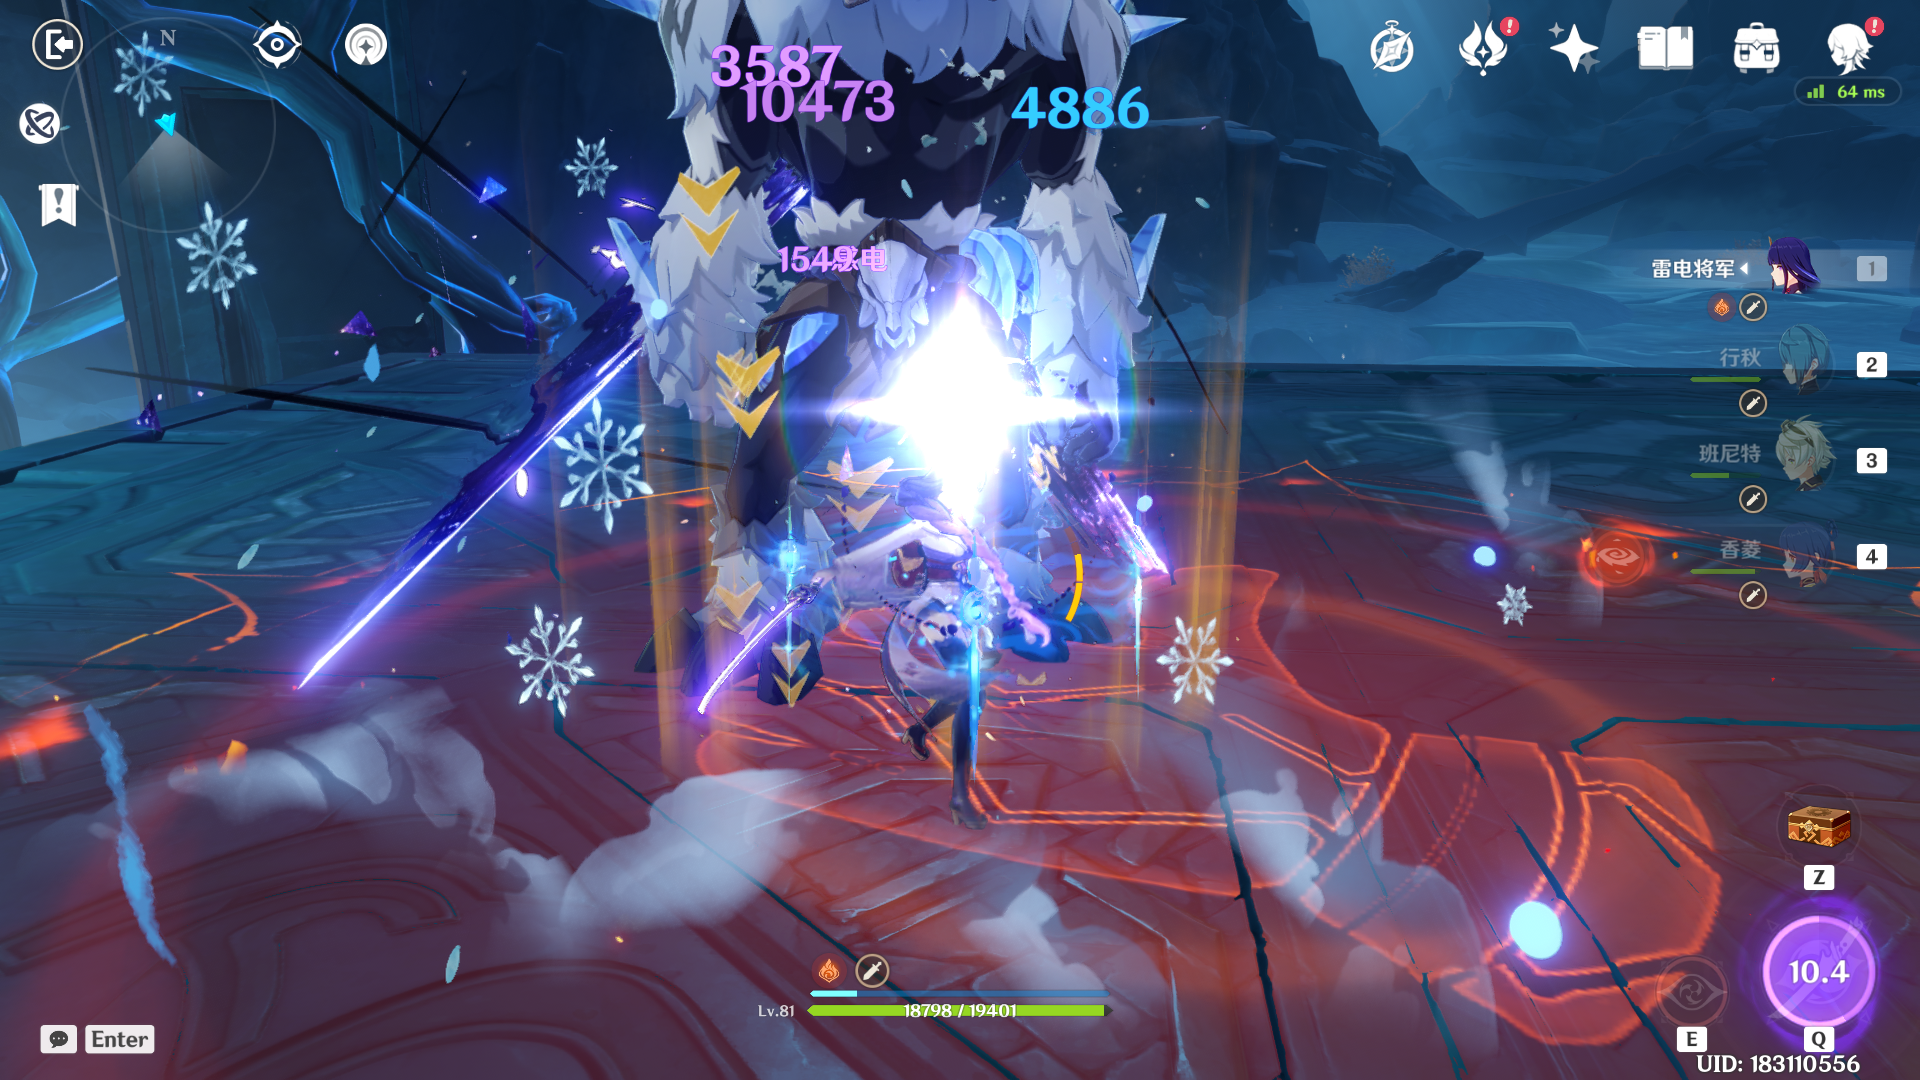bosshili: (487, 1, 1172, 716)
character: (848, 473, 1036, 862)
